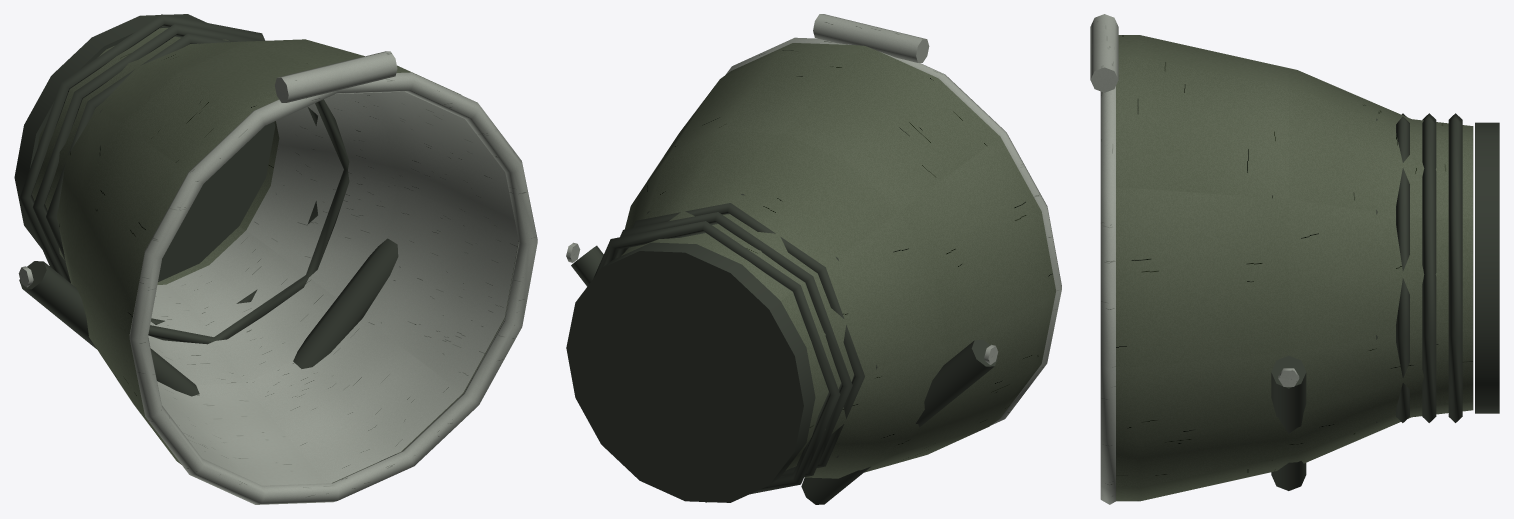
File: SM_FieldKit_LampHead_LOD1.glb
3 views of the same model, side by side, from view 1: azimuth 30°, elevation 25°; view 2: azimuth 150°, elevation 25°; view 3: azimuth 270°, elevation 25° (orthographic). The views are drawn at different scales.
Parts seen in each view (by area): view 1: SM_FieldKit_LampHead_LOD1; view 2: SM_FieldKit_LampHead_LOD1; view 3: SM_FieldKit_LampHead_LOD1.
Part boxes in pixels (box(x1,y1,x2,y2)): SM_FieldKit_LampHead_LOD1: box(14, 14, 537, 504); SM_FieldKit_LampHead_LOD1: box(566, 14, 1061, 504); SM_FieldKit_LampHead_LOD1: box(1090, 14, 1499, 504).
Bounding box in the file's own units: 0.2961 × 0.278 × 0.233.
Materials: 3 (2 with a texture image).
